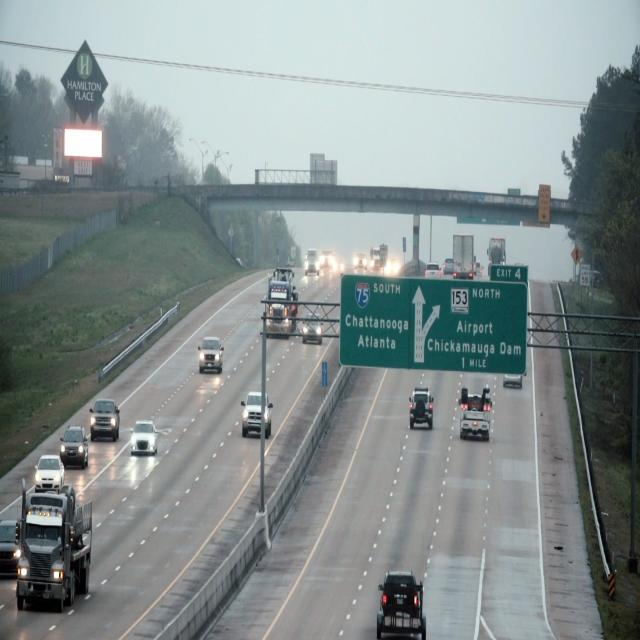Car: (18, 497, 98, 612), (375, 569, 428, 637), (260, 264, 299, 338), (457, 382, 493, 446), (240, 389, 273, 440), (58, 422, 89, 471), (88, 397, 121, 443), (407, 384, 436, 432), (34, 449, 66, 491), (1, 516, 21, 576), (131, 418, 157, 461), (198, 335, 224, 376), (302, 315, 323, 342)
